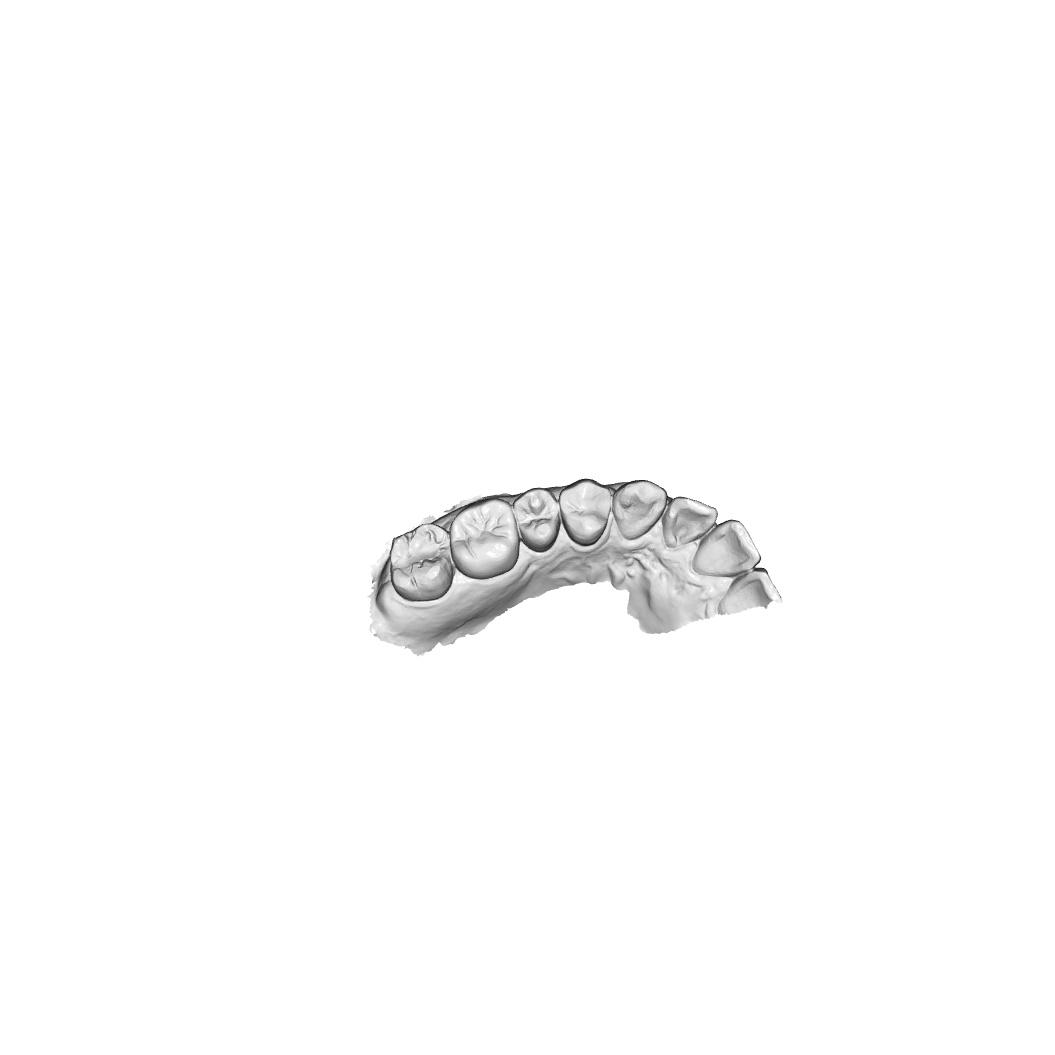canine: (613, 479, 667, 542)
incisor: (690, 518, 763, 578), (717, 567, 783, 618), (662, 495, 720, 551)
molar: (449, 496, 521, 581), (388, 522, 454, 603)
premolar: (557, 477, 612, 548), (512, 486, 562, 555)
